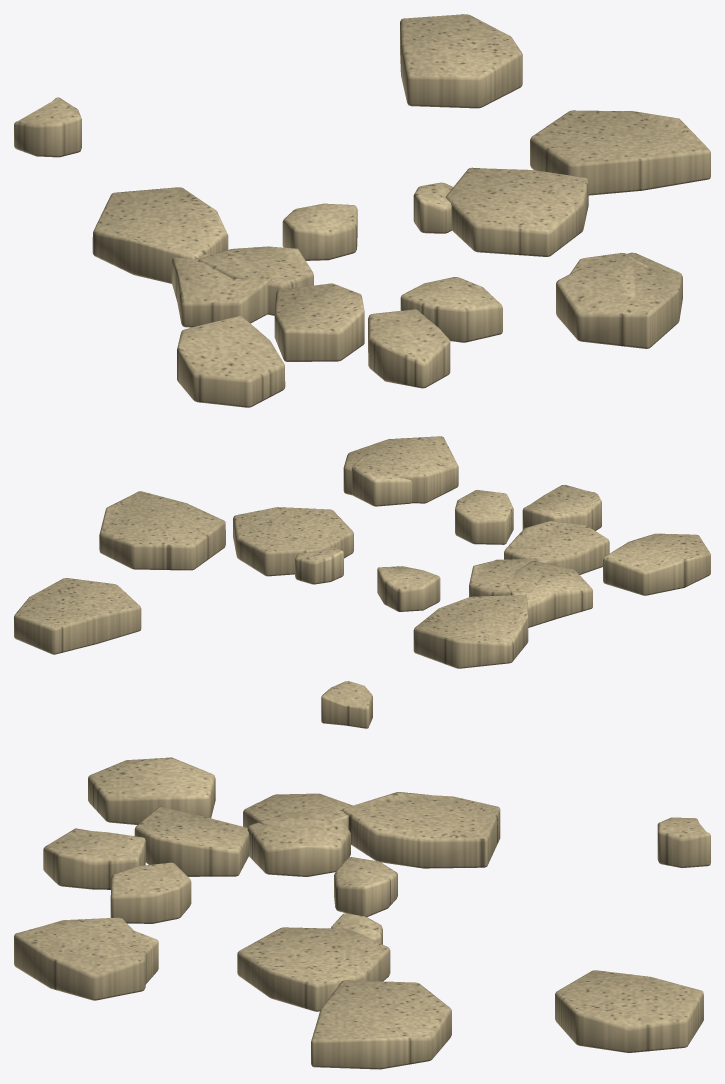
The model's file is food-01-full.glb.
The picture shows the model from 3 angles, top to bottom: view 1: azimuth 30°, elevation 25°; view 2: azimuth 150°, elevation 25°; view 3: azimuth 270°, elevation 25°; orthographic projection. The views are drawn at different scales.
Visible parts, largest first — view 1: Food; view 2: Food; view 3: Food.
Part boxes in pixels (x1,y1,x2,y2): Food: (14, 14, 710, 407); Food: (14, 436, 710, 728); Food: (14, 757, 710, 1069).
Size of the model in its own units: 0.5639 by 0.0319 by 0.5839.
1 material, 1 textured.
